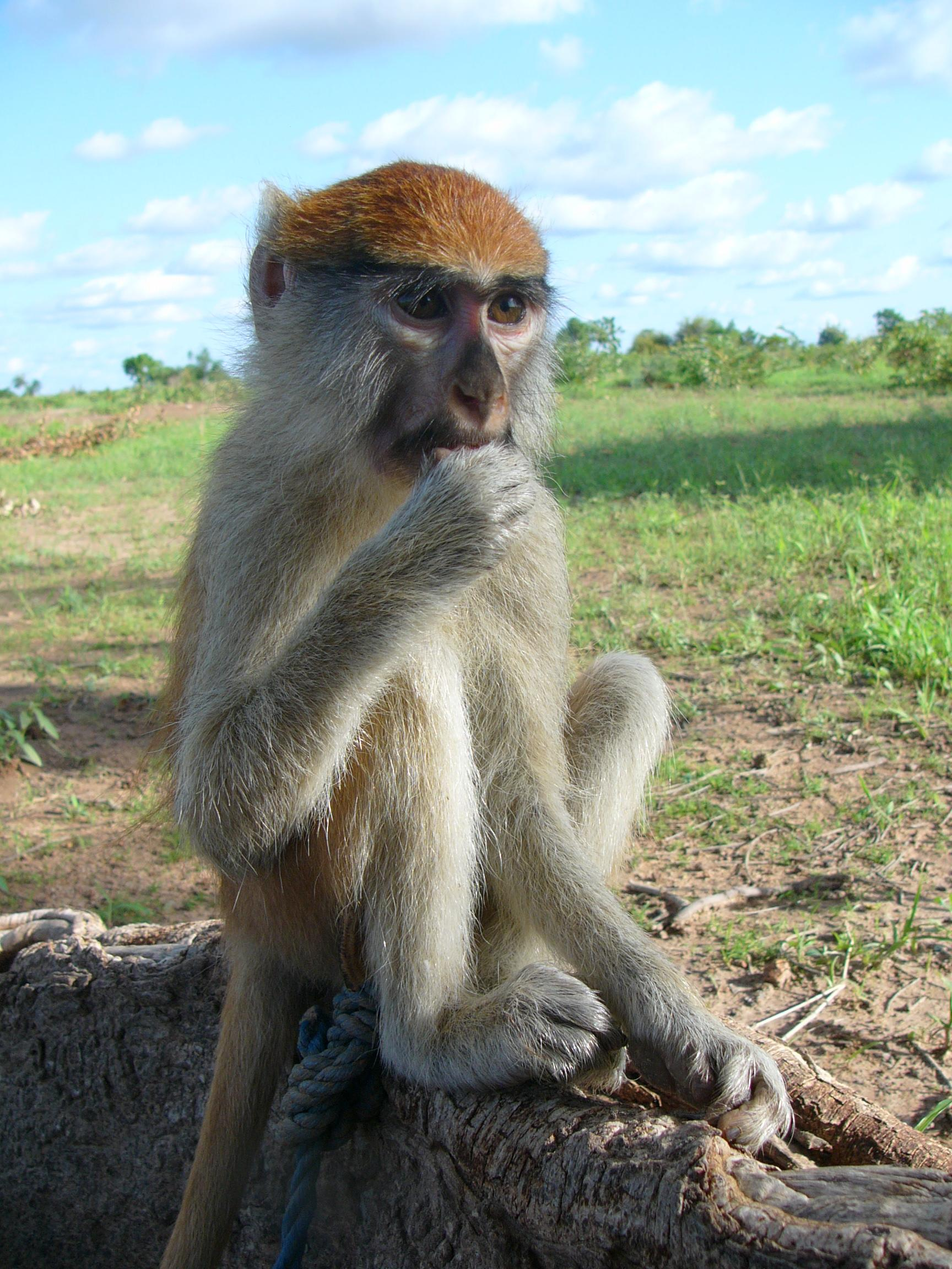monkey: (161, 161, 792, 1268)
